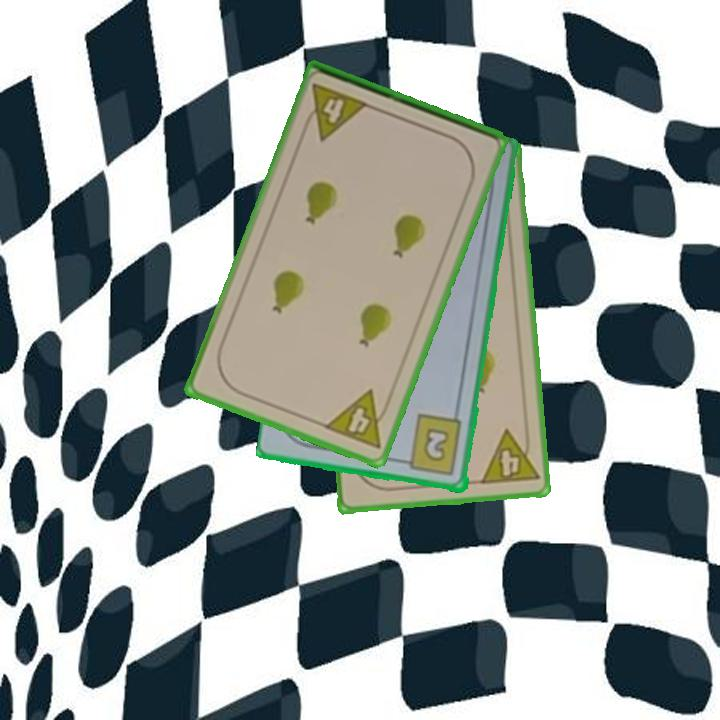2b: (397, 412, 466, 479)
4p: (320, 386, 395, 452), (298, 80, 372, 144), (477, 425, 542, 488)
